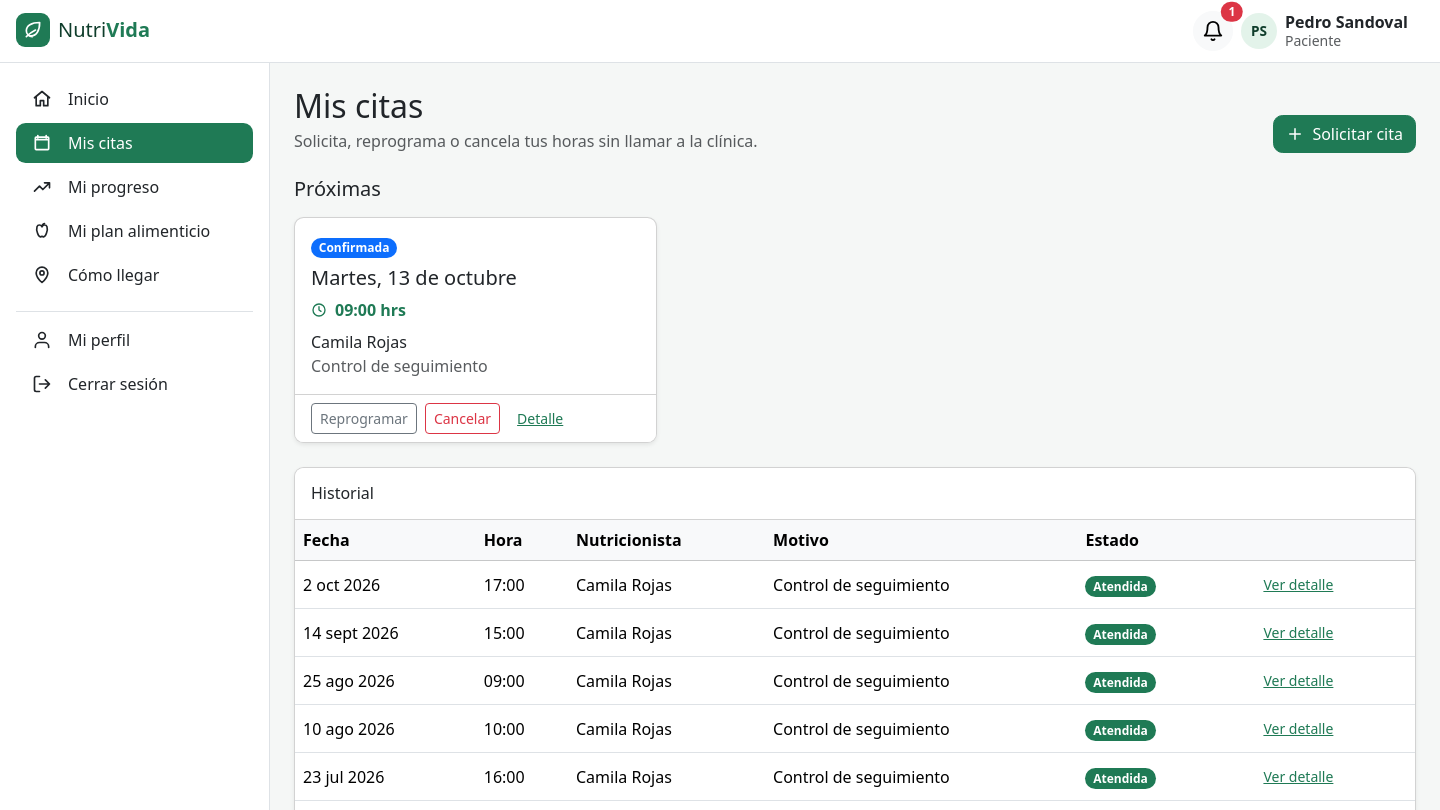
Test case: Vistas del paciente › Mis citas: abre el detalle con el seguimiento de estados de la cita
What coordinates should you click on to do the following:
click the button "Detalle"
I would click on:
 (540, 419)
Its box is [508,403,572,434].
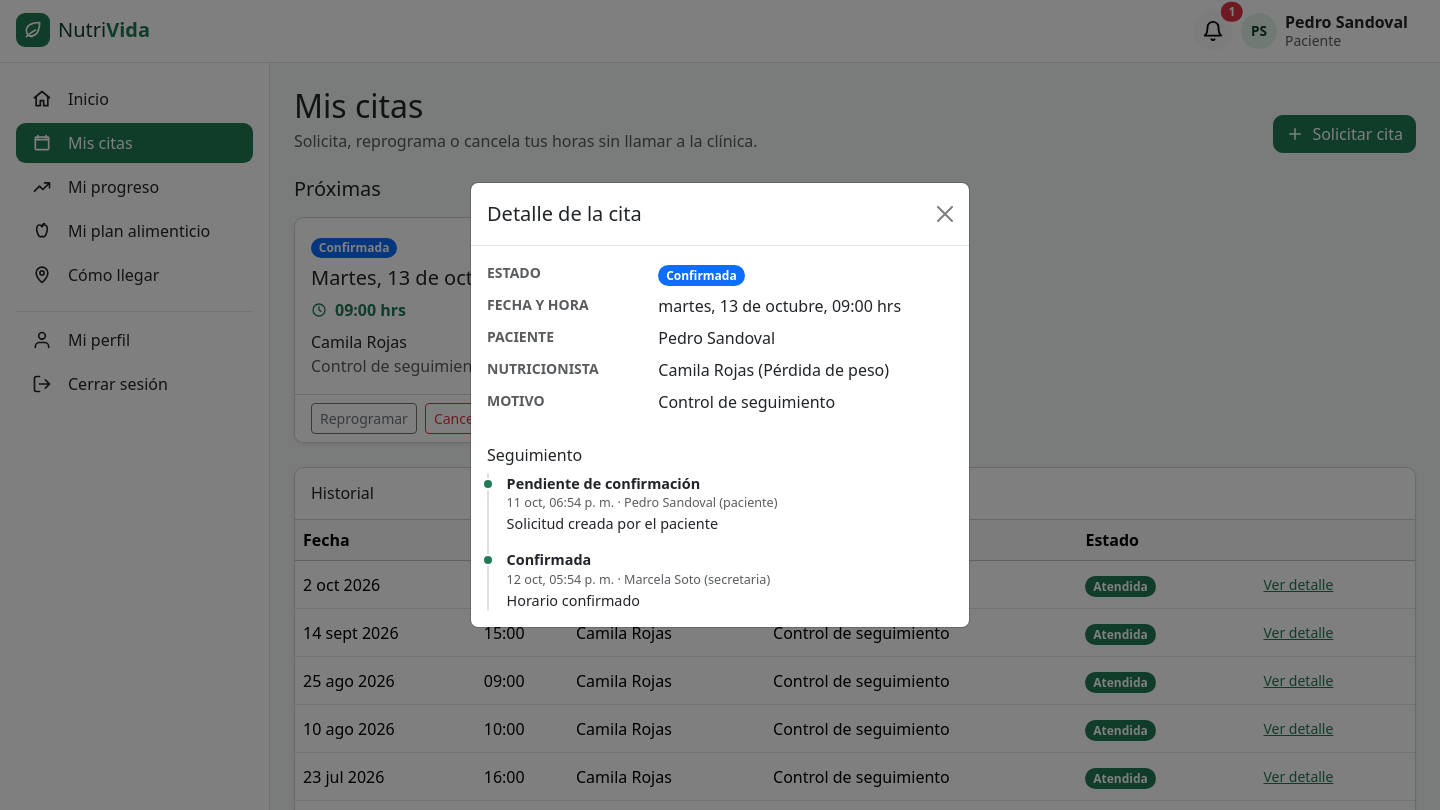
Expected: the heading "Seguimiento" is shown, [487,444,582,466]
